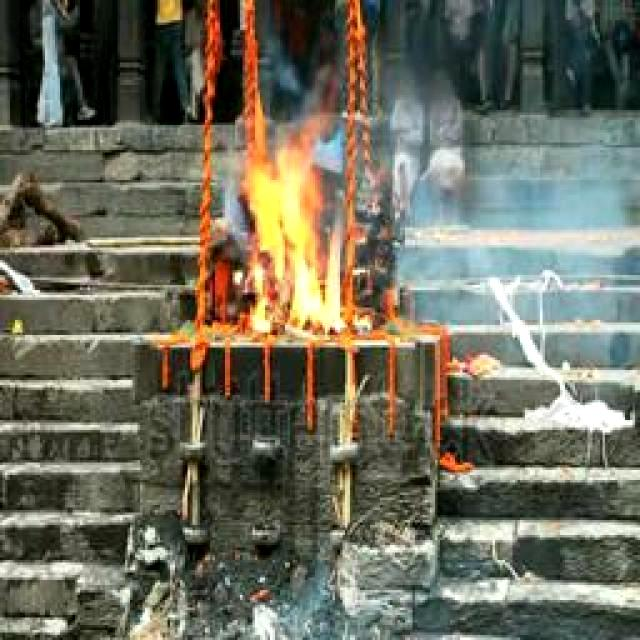fire: (240, 132, 344, 336)
